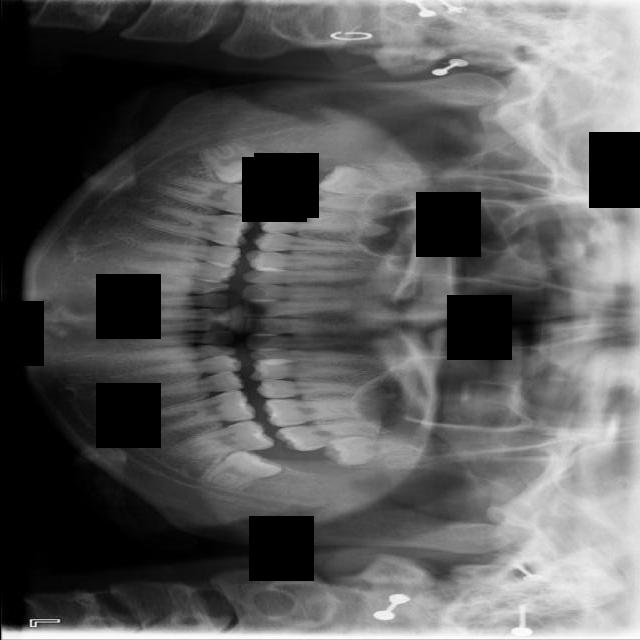3M ESPE Implant: (315, 163, 432, 201)
52: (275, 223, 307, 237)
73: (40, 613, 50, 617)
BioHorizons Implant: (273, 414, 399, 455)
BioLife Implant: (321, 429, 444, 467)
Biomet 3i Implant: (199, 438, 284, 497)
Blue Sky Bio Implant: (165, 417, 274, 462)
Caries: (266, 178, 391, 214)
Implant: (154, 172, 268, 218)
Keystone Dental Implant: (199, 126, 281, 195)
